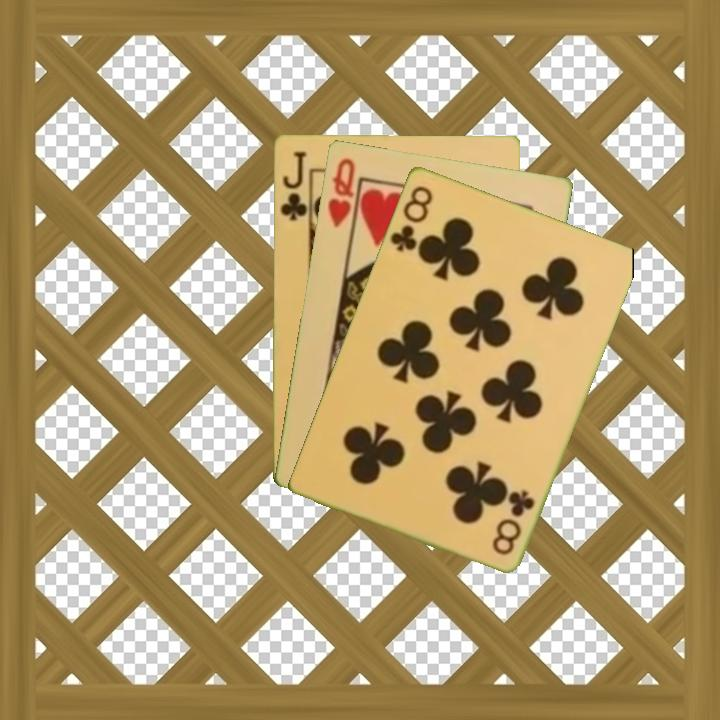8c: (386, 181, 436, 254), (488, 485, 538, 558)
Jc: (276, 147, 309, 223)
Qh: (323, 154, 362, 237)
